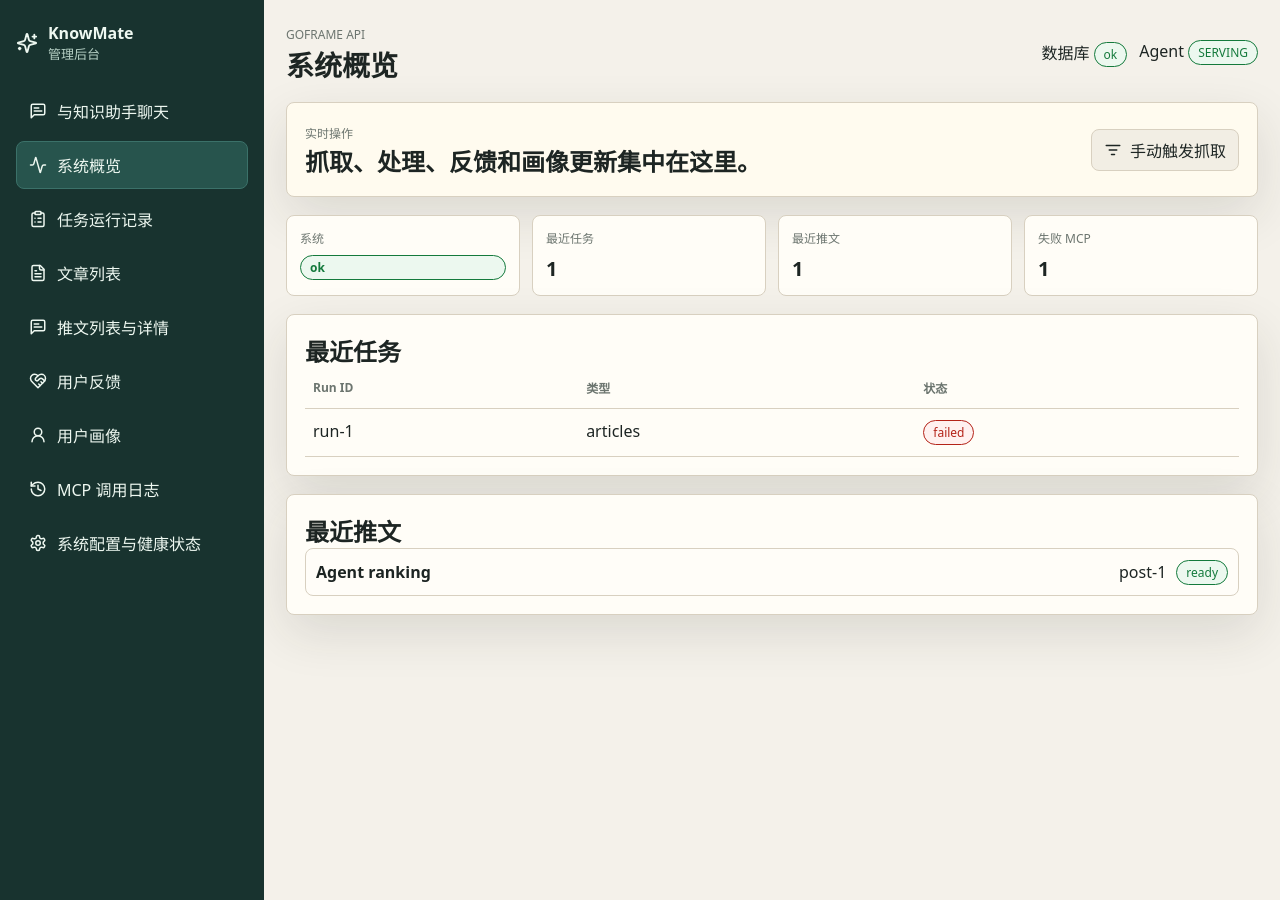
Test case: App › opens post detail and displays recommendation reasons
This screenshot has width=1280, height=900.
Click the button "推文列表与详情": [132, 327] box [16,303,248,351]
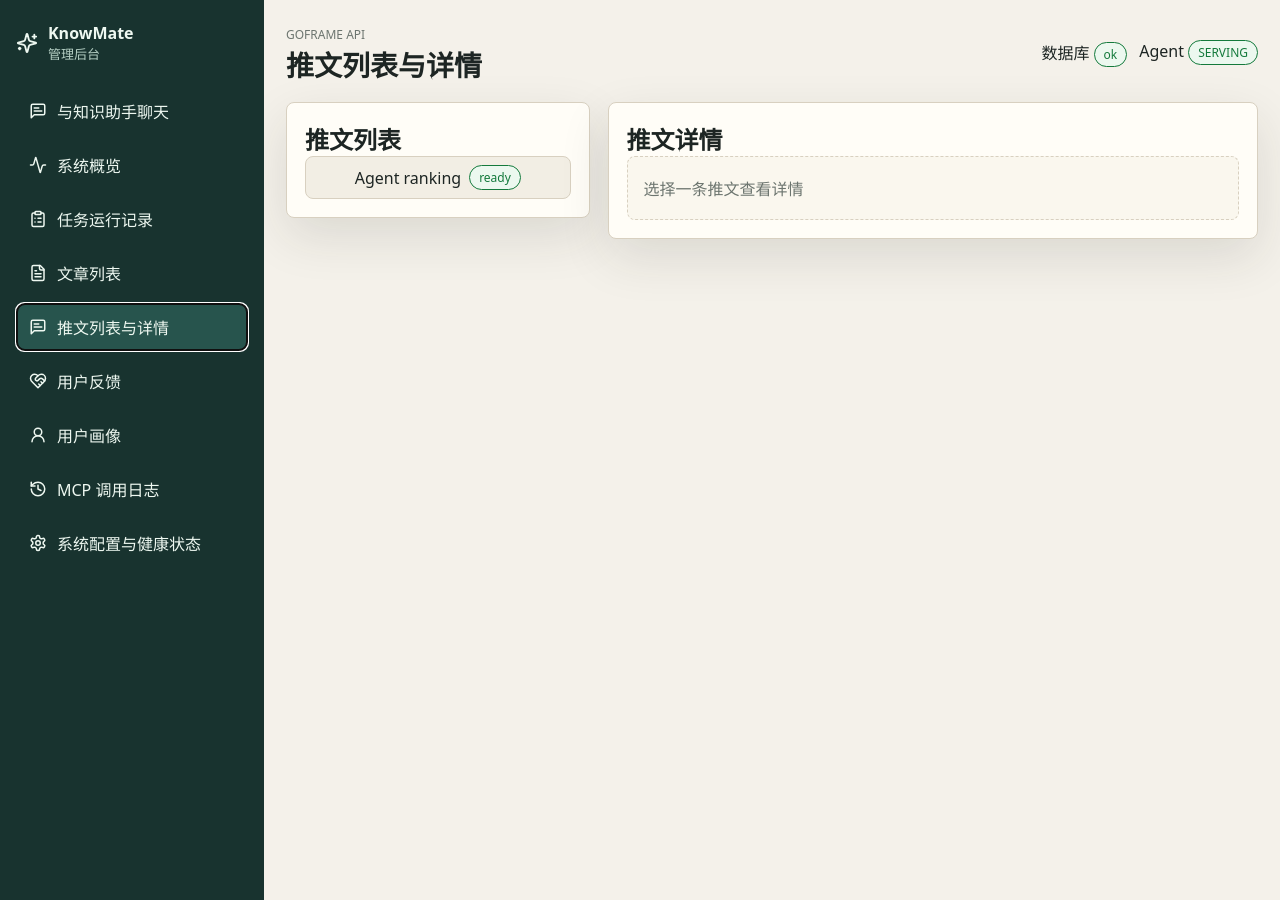
Click the button "Agent ranking ready": [438, 178] box [305,156,570,199]
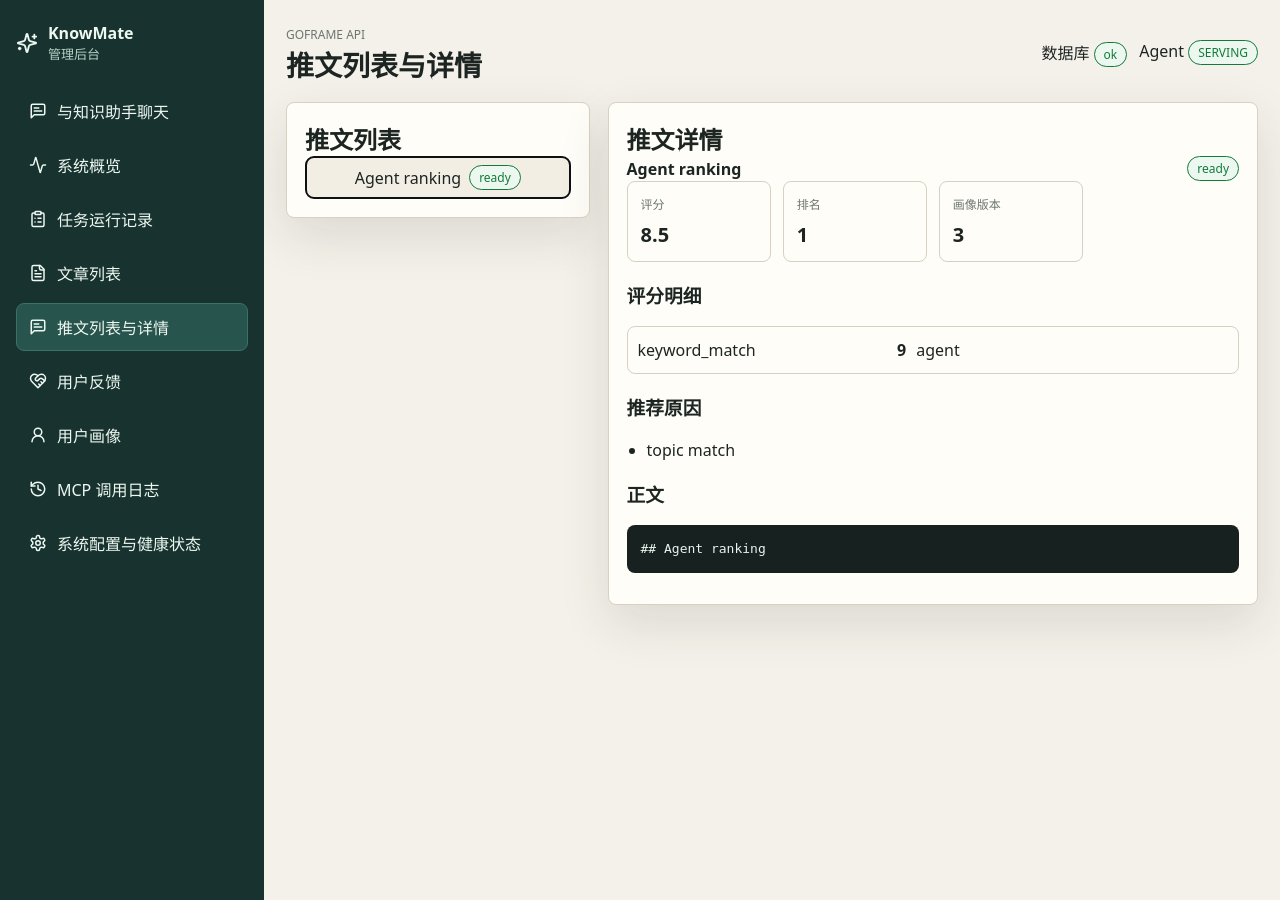
Expected: the heading "评分明细" is shown, [626,283,701,308]
Expected: the list item "topic match" is shown, [646,439,735,461]
